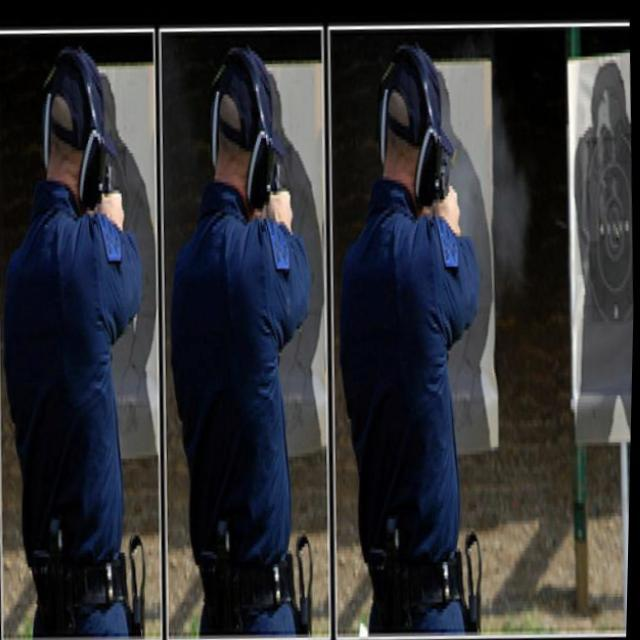weapon: (436, 166, 464, 208), (98, 161, 120, 205), (271, 161, 288, 206)
